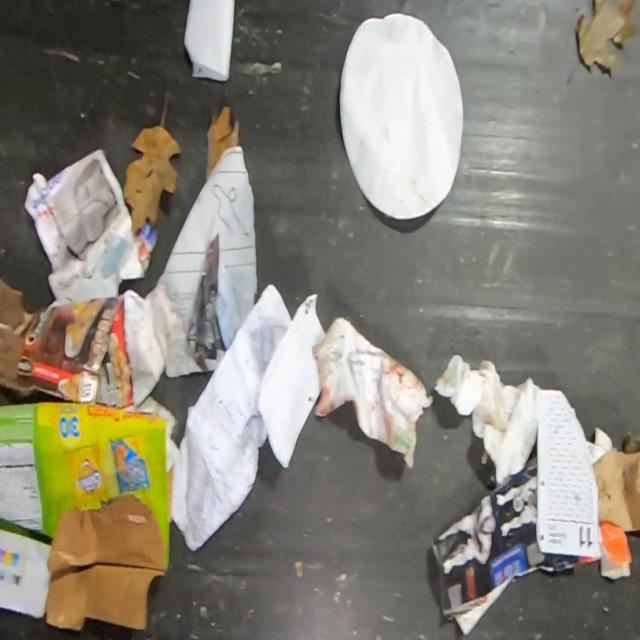cardboard: (0, 399, 174, 634), (0, 274, 179, 408), (593, 434, 639, 532)
